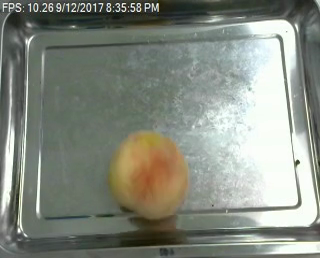Peach: (109, 130, 188, 218)
